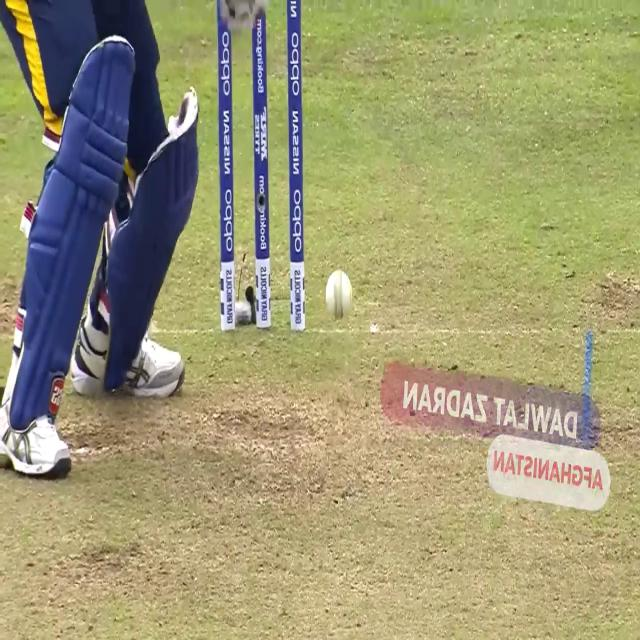ball: (325, 264, 353, 323)
